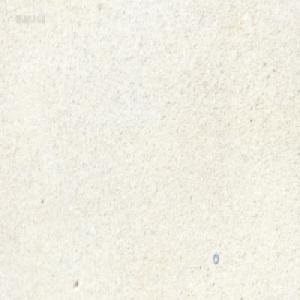Washer: (212, 252, 218, 264)
